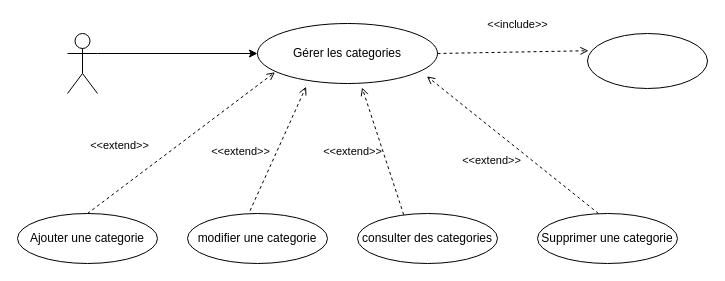
Some shapes in this 725 by 281 pixel diagram are drawn without their labels. The box of each missing label's shape, as (x1, y1, x2, y2) in pixels:
Login: (586, 32, 708, 88)
Pharmacien: (66, 32, 98, 94)
